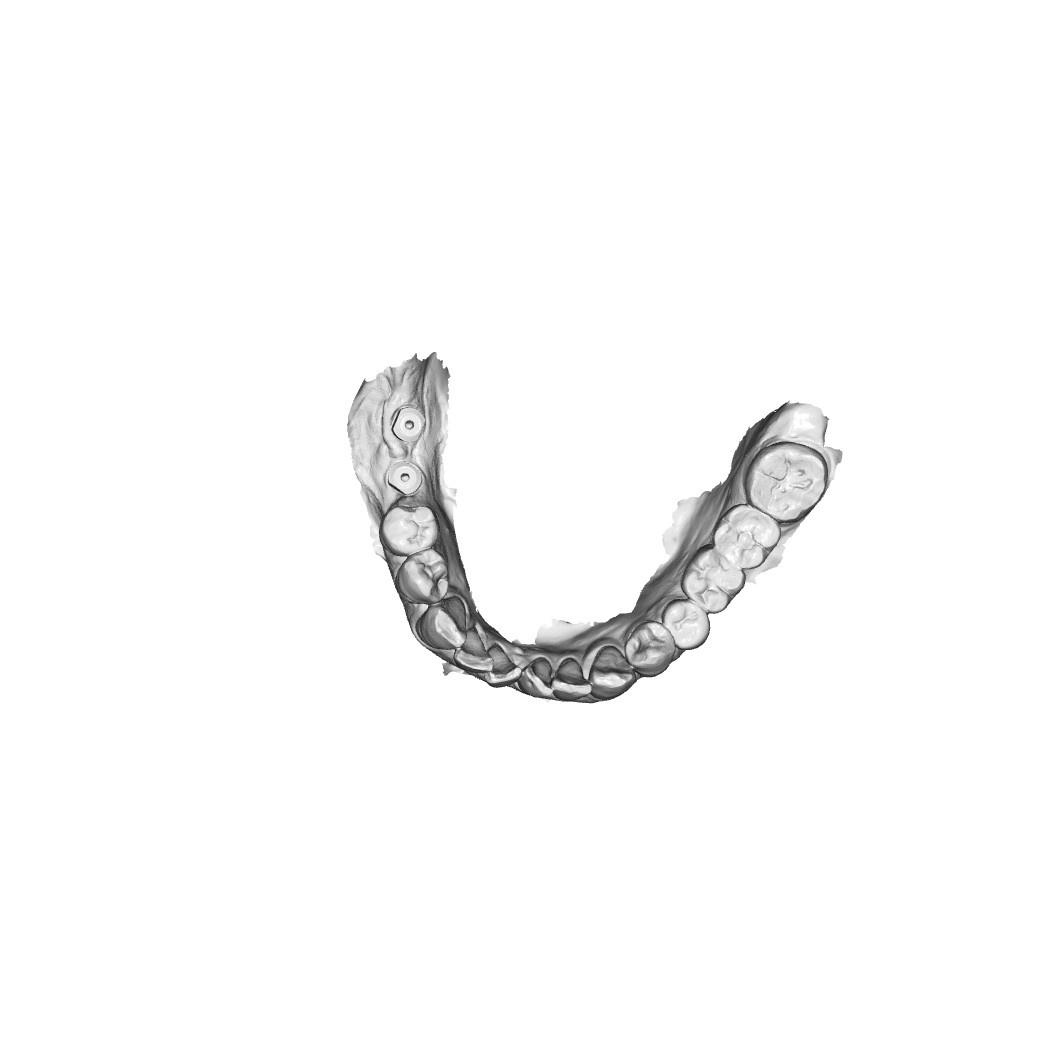canine: (587, 648, 637, 695), (422, 604, 469, 650)
implant: (386, 460, 422, 494), (392, 403, 424, 438)
incisor: (552, 660, 587, 698), (457, 634, 494, 669), (521, 658, 551, 697), (486, 651, 515, 683)
molar: (746, 446, 821, 515), (714, 507, 775, 567), (686, 551, 745, 605)
premolar: (382, 501, 436, 554), (628, 622, 678, 672), (398, 552, 447, 600), (666, 602, 709, 646)
